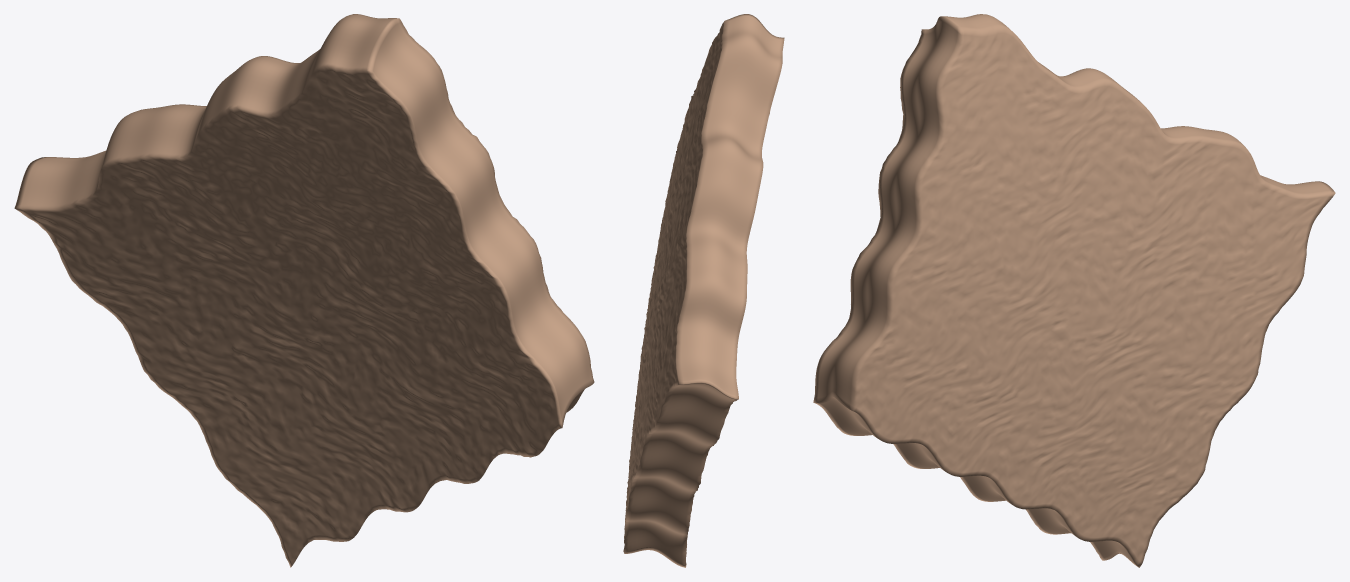
File: pieceA.glb
3 views of the same model, side by side, from view 1: azimuth 30°, elevation 25°; view 2: azimuth 150°, elevation 25°; view 3: azimuth 270°, elevation 25° (orthographic). The views are drawn at different scales.
Parts seen in each view (by area): view 1: pieceA; view 2: pieceA; view 3: pieceA.
Boxes of the visible parts, x1,y1,x2,y2 form: pieceA: (14, 14, 594, 567); pieceA: (623, 14, 784, 567); pieceA: (813, 14, 1335, 567).
Bounding box in the file's own units: 150 × 258 × 222.
